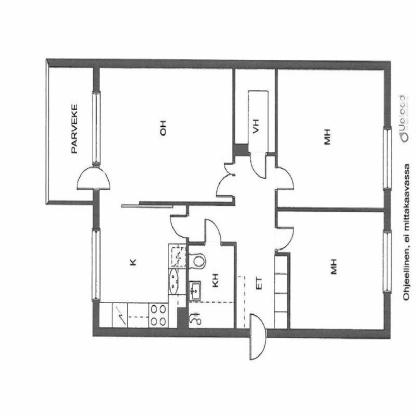door: (76, 167, 112, 194), (247, 314, 266, 359), (216, 162, 238, 199), (273, 226, 296, 253), (250, 150, 269, 180), (203, 218, 222, 246), (168, 214, 190, 238), (276, 165, 294, 191)
window: (92, 92, 100, 164), (383, 126, 391, 190), (382, 231, 390, 291), (92, 230, 99, 298)
zone: (100, 64, 235, 328), (187, 152, 288, 331), (277, 66, 383, 208), (278, 209, 384, 330), (48, 66, 93, 200), (188, 242, 234, 327), (236, 65, 277, 153)
